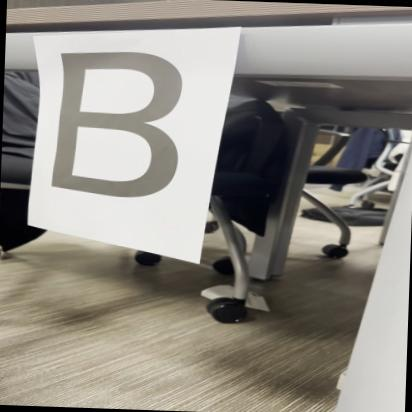seat: (43, 43, 194, 210)
